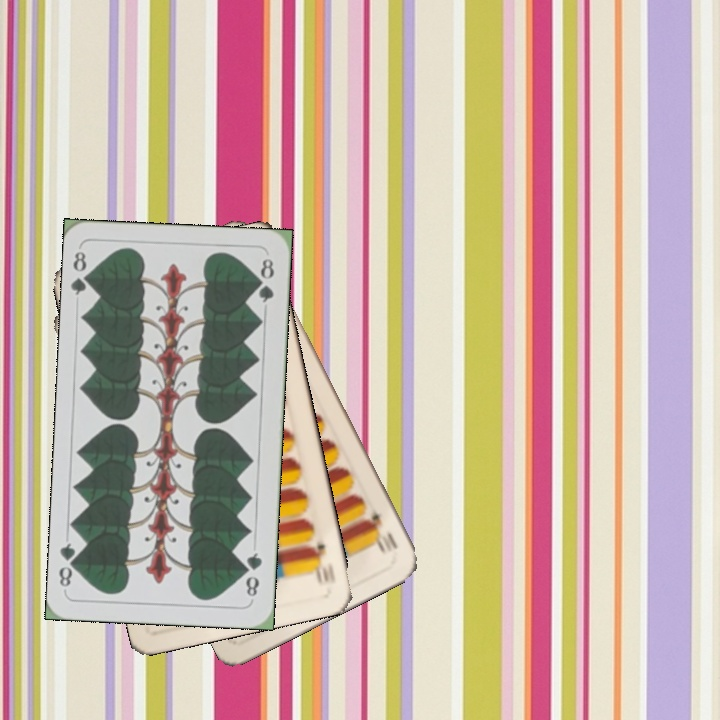E10: (364, 509, 400, 554), (307, 539, 332, 588)
G8: (68, 247, 96, 298), (240, 548, 265, 599)
